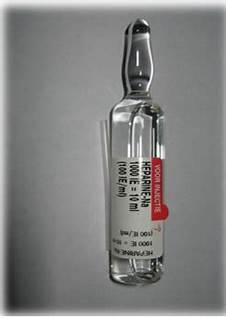Syringe: (101, 13, 174, 294)
